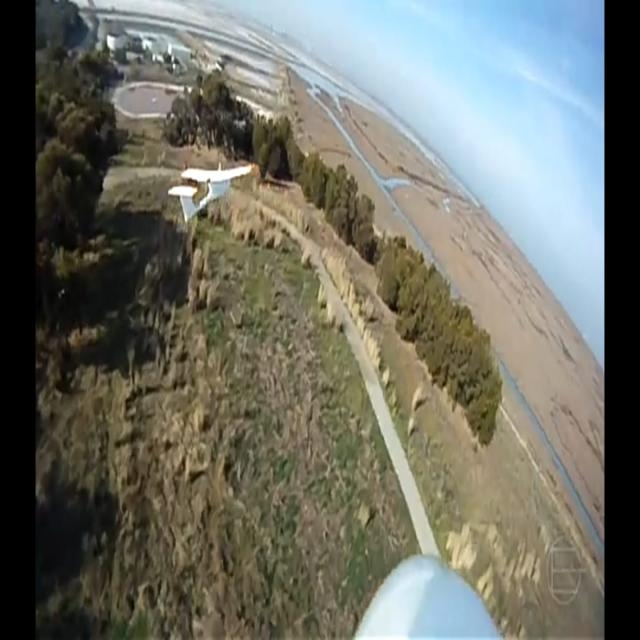iha: (199, 162, 219, 225)
